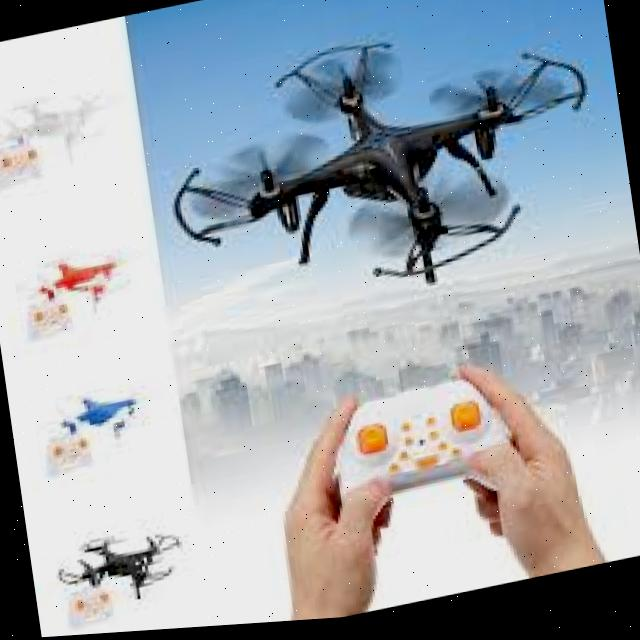drone: (154, 1, 620, 332), (49, 511, 186, 618), (1, 81, 119, 171), (34, 236, 126, 322), (56, 373, 144, 450)
